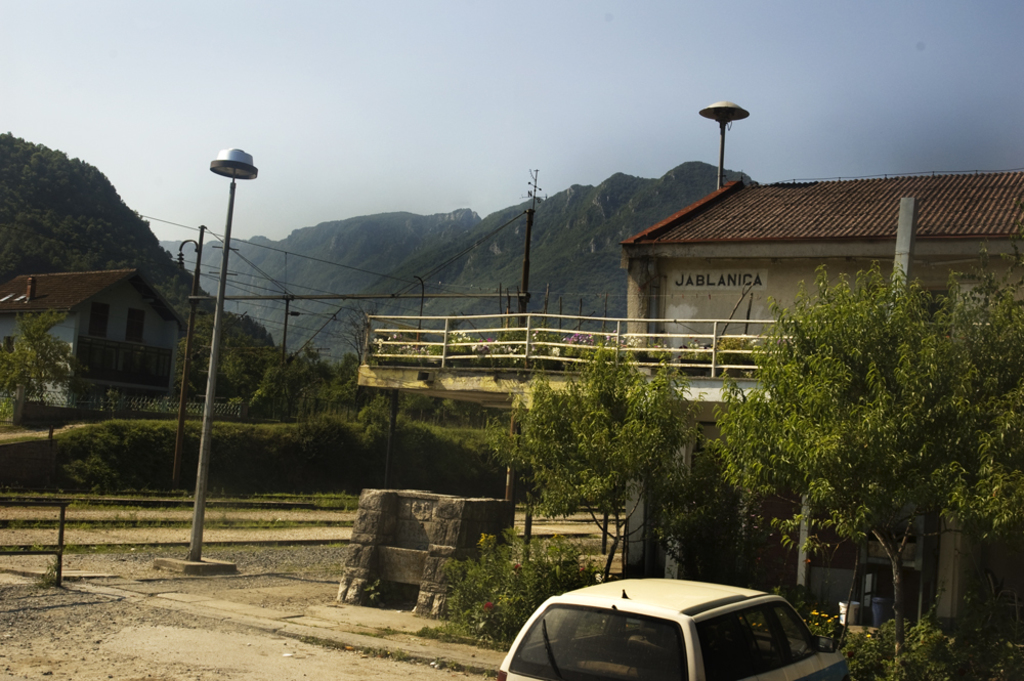Car: (498, 582, 849, 681)
